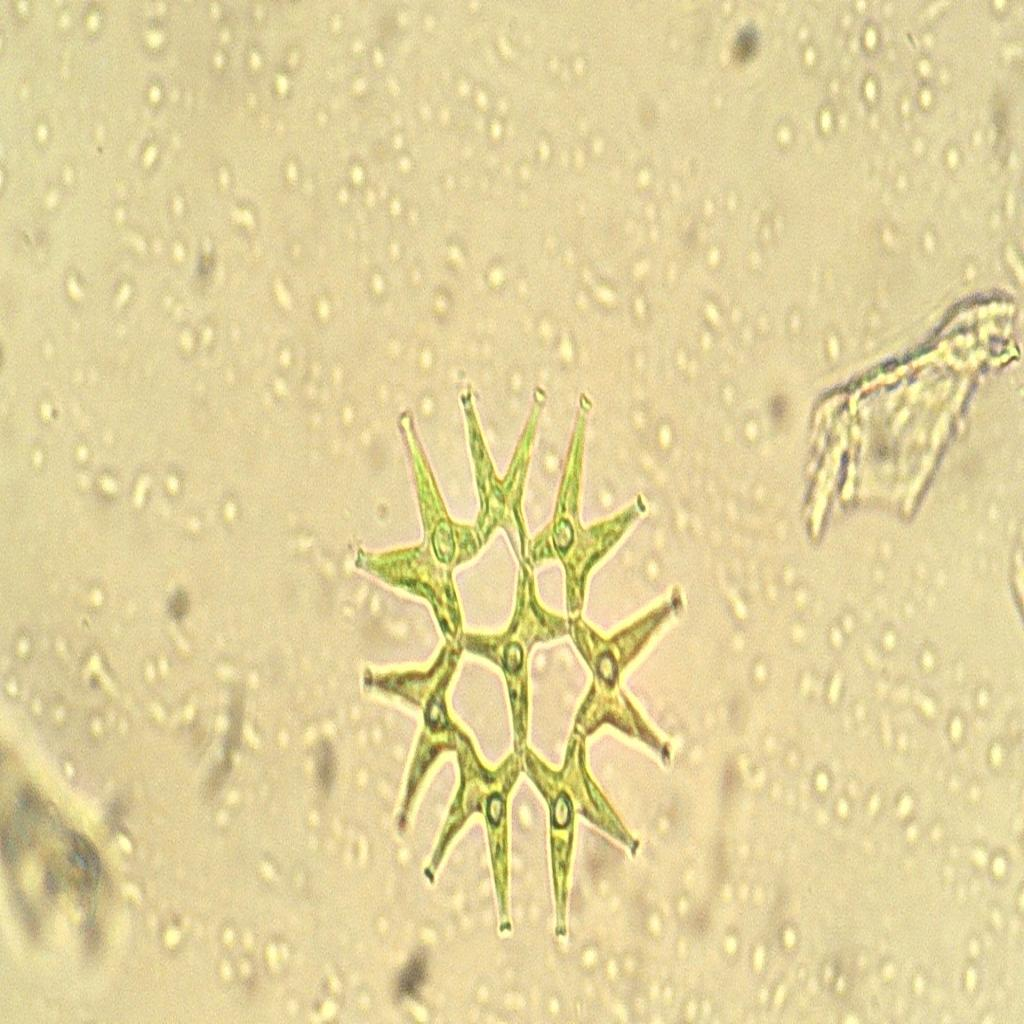Pediastrum_75T: (349, 374, 690, 950)
